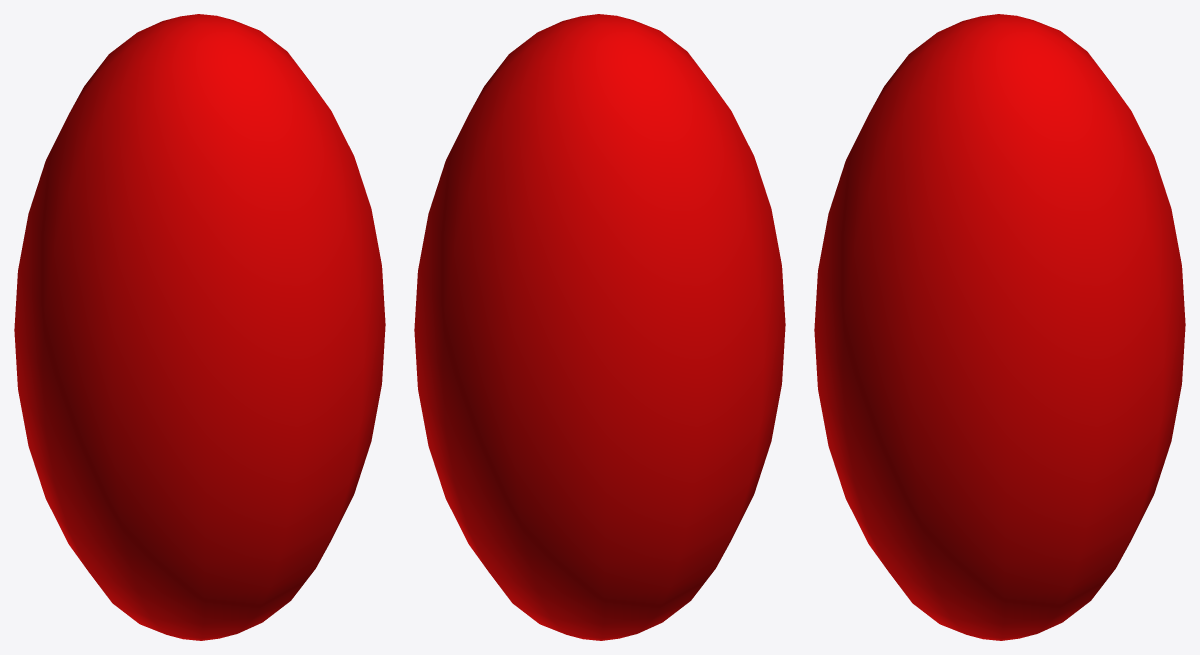
Rendered from leftleg.fbx.
3 renders of one model, left to right at view 1: azimuth 30°, elevation 25°; view 2: azimuth 150°, elevation 25°; view 3: azimuth 270°, elevation 25°, orthographic.
Visible parts, largest first — view 1: 구체.002; view 2: 구체.002; view 3: 구체.002.
Boxes of the visible parts, x1,y1,x2,y2 form: 구체.002: [14, 14, 385, 640]; 구체.002: [414, 14, 785, 640]; 구체.002: [814, 14, 1185, 640].
Size of the model in its own units: 75.61 by 137 by 75.61.
